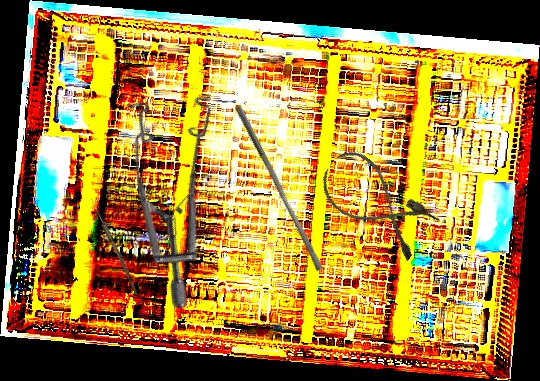Cannula: (311, 142, 443, 265)
Pusher: (228, 104, 329, 272)
Speculum: (72, 65, 297, 314)
Surgical Spoon: (88, 197, 141, 296)
